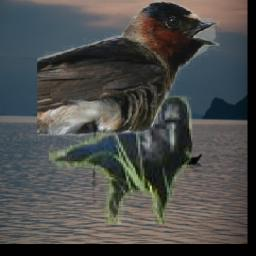Crow: (50, 97, 193, 225)
Swallow: (37, 0, 220, 135)
